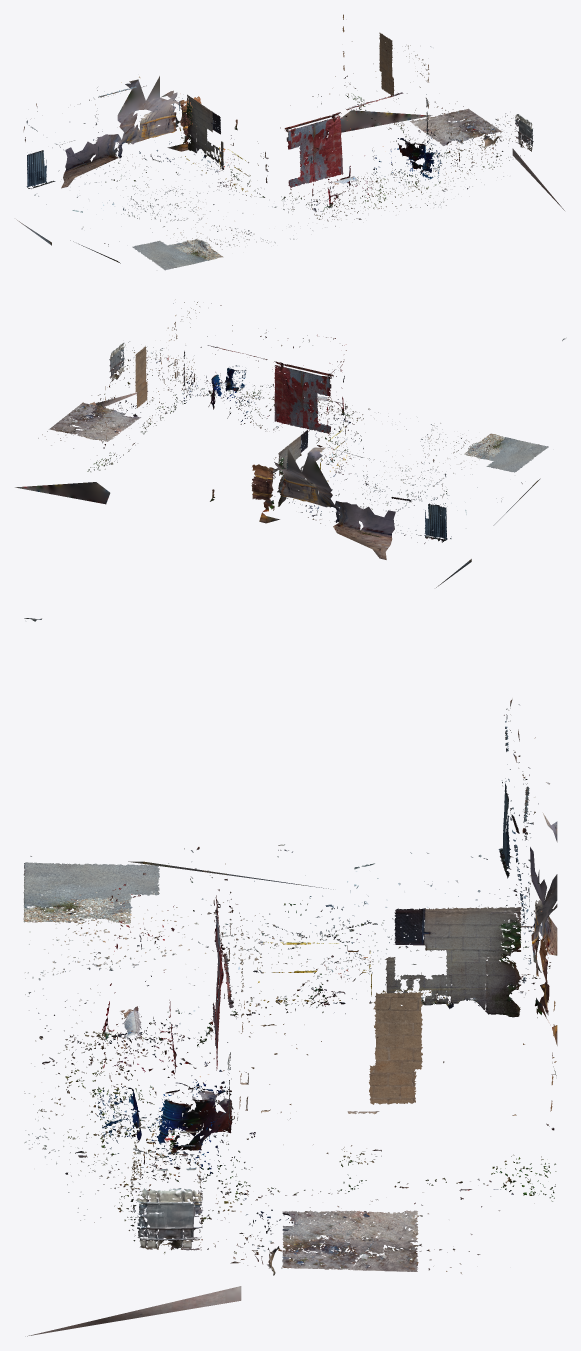
3 views of the same model, one above another, from view 1: azimuth 30°, elevation 25°; view 2: azimuth 150°, elevation 25°; view 3: azimuth 270°, elevation 25° (orthographic). The views are drawn at different scales.
Bounding box in the file's own units: 11.17 × 3.93 × 6.15.
Materials: 1 (1 with a texture image).
